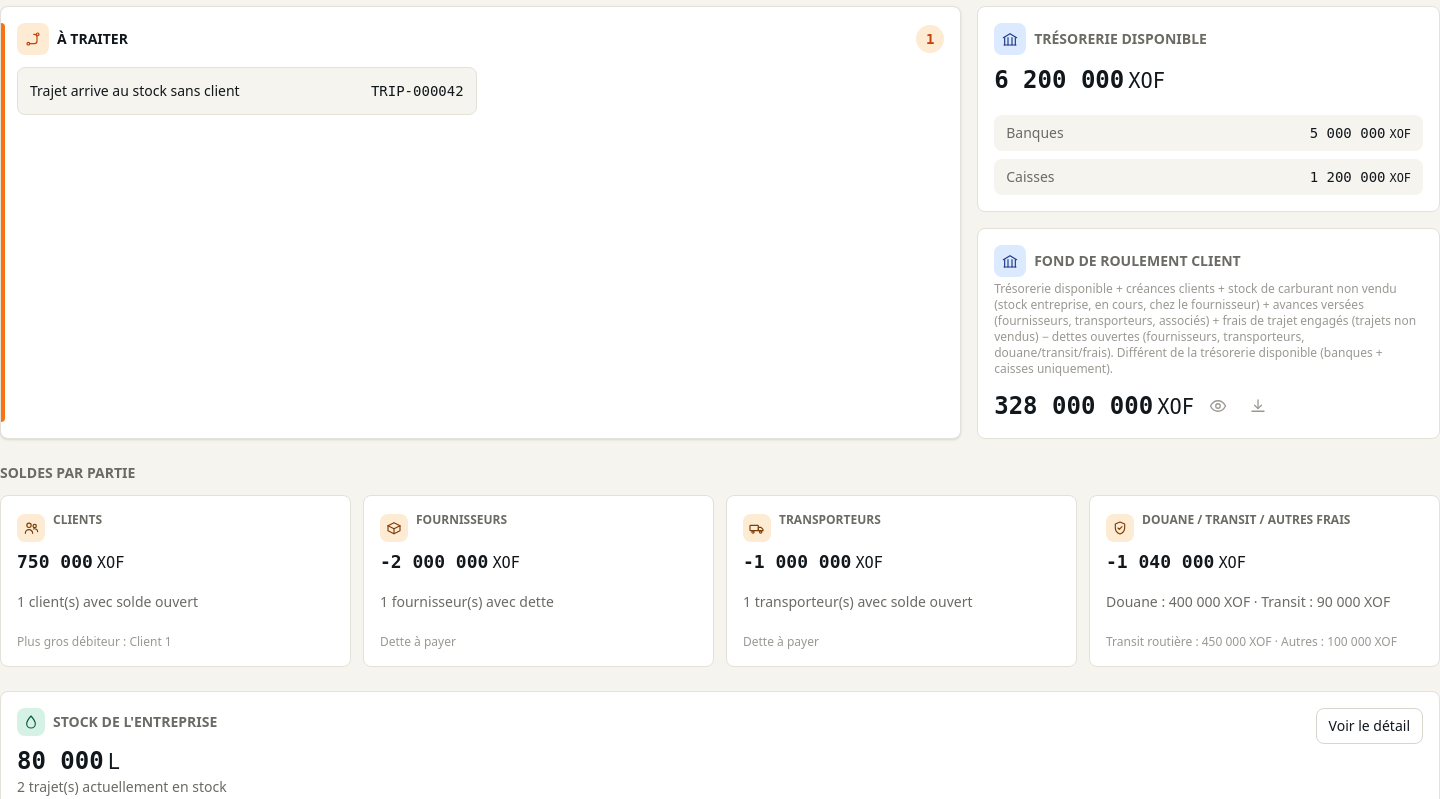
Test: DashboardView › labels the three fond de roulement lines as unsold fuel stock
(page scrolled)
Click the button with test id "working-capital-toggle" at (1218, 406), box [1202, 390, 1234, 422]
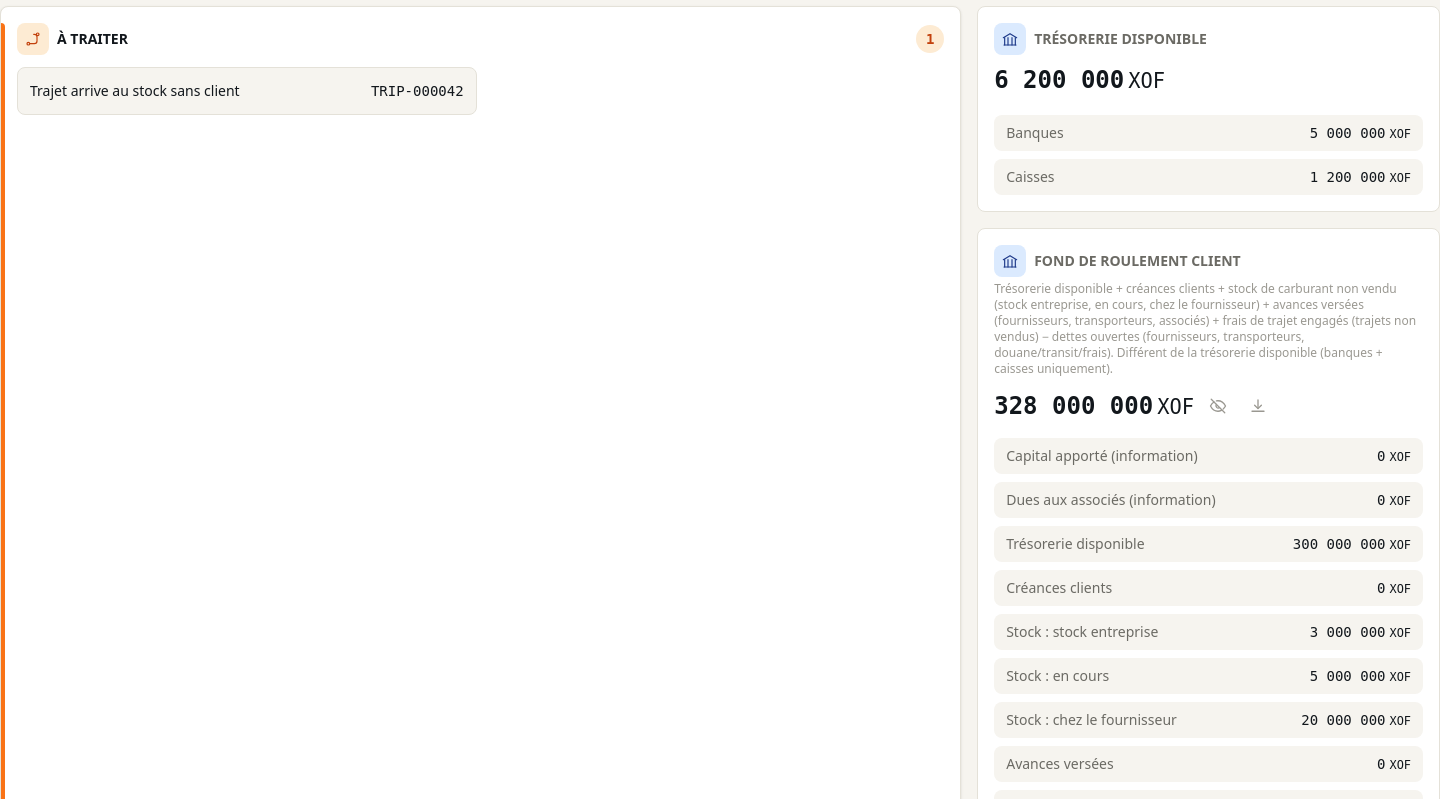
Result: the element showing "Stock : chez le fournisseur 20 000 000 XOF" is shown at [994, 702, 1423, 738]
Result: the element showing "Stock : en cours 5 000 000 XOF" is shown at [994, 658, 1423, 694]
Result: the element showing "Stock : stock entreprise 3 000 000 XOF" is shown at [994, 614, 1423, 650]
